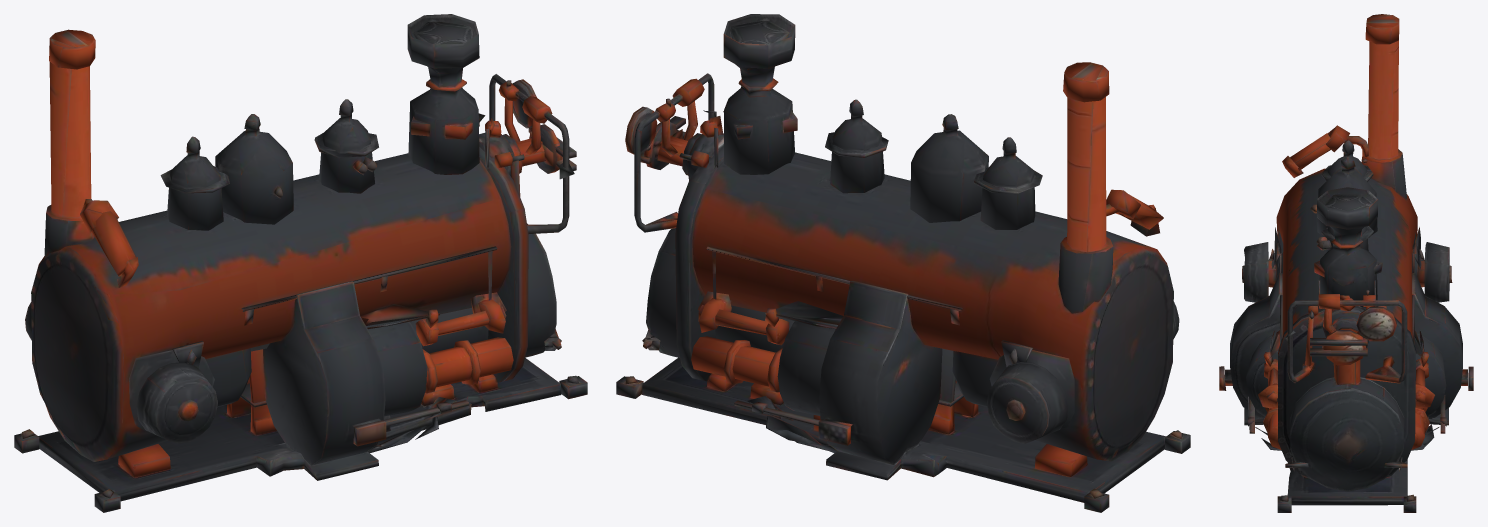
Rendered from steamEngine.glb.
3 renders of one model, left to right at view 1: azimuth 30°, elevation 25°; view 2: azimuth 150°, elevation 25°; view 3: azimuth 270°, elevation 25°, orthographic. The views are drawn at different scales.
Size of the model in its own units: 0.9404 by 0.7569 by 0.5405.
1 material, 1 textured.
